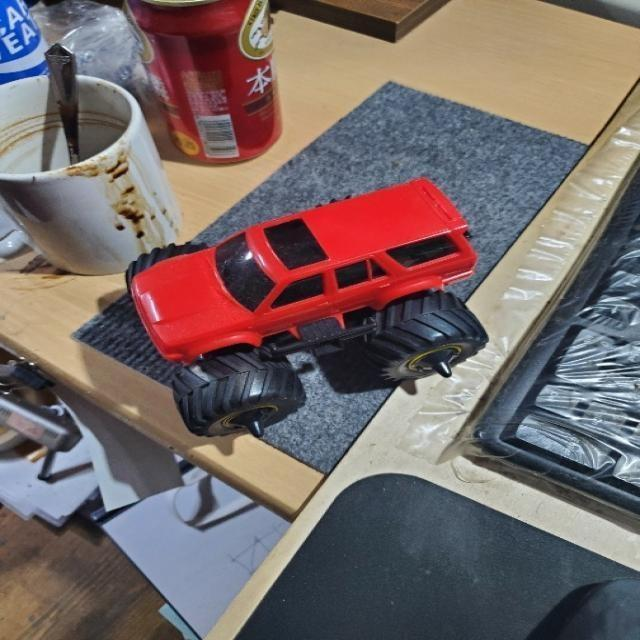Car: (69, 155, 528, 456)
